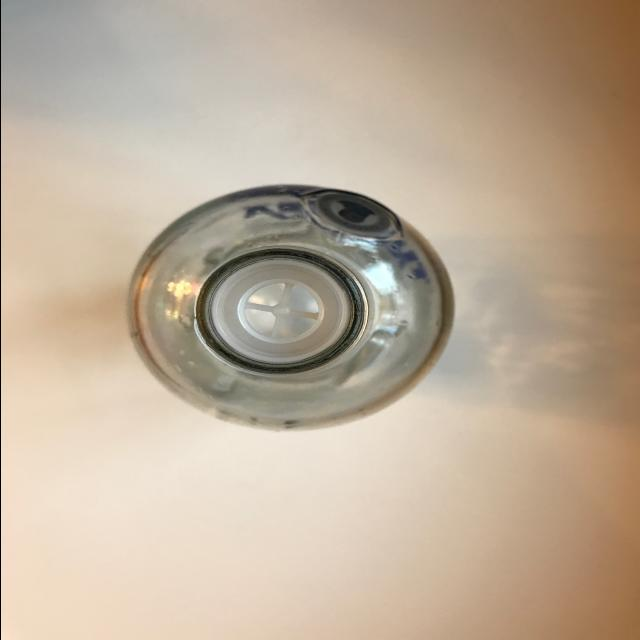glass: (121, 180, 459, 440)
